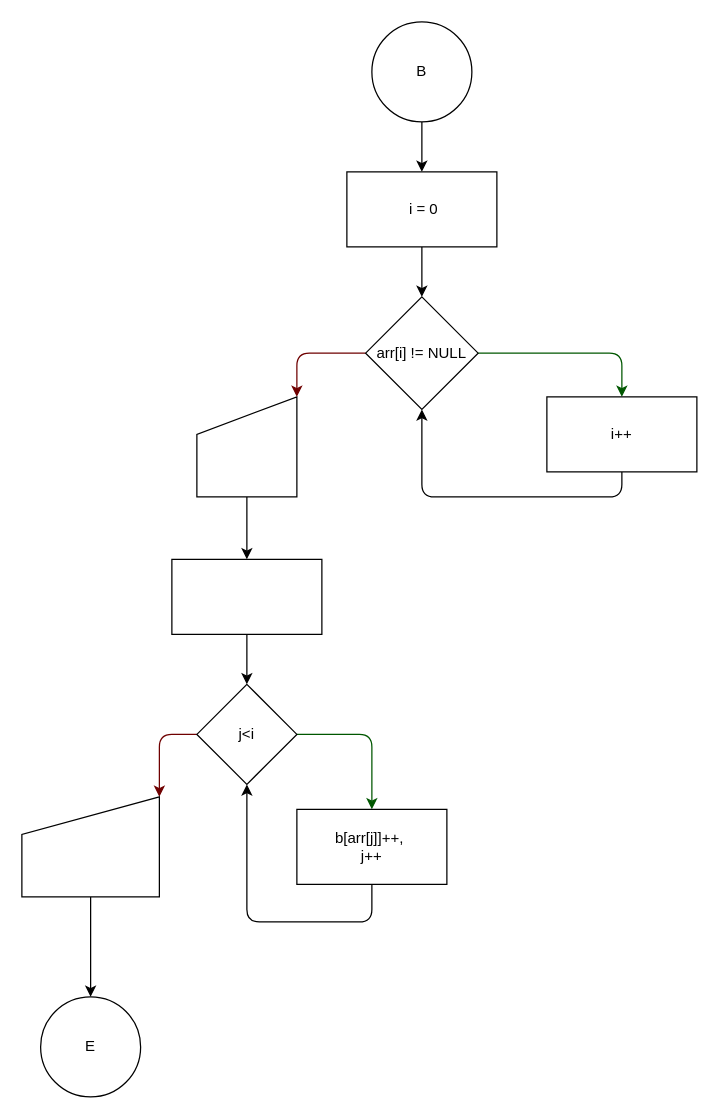
Image size: 719x1119. Some labels were removed from this diagram. Here are the shapes that lost their labels. From the top down, the centre of each, then its label:
At point (246, 446): "đưa ra i".
At point (246, 596): "khởi tạo mảng b với các phần tử đều bằng 0, j=0".
At point (90, 846): "đưa ra giá trị của index và indextrong b".
